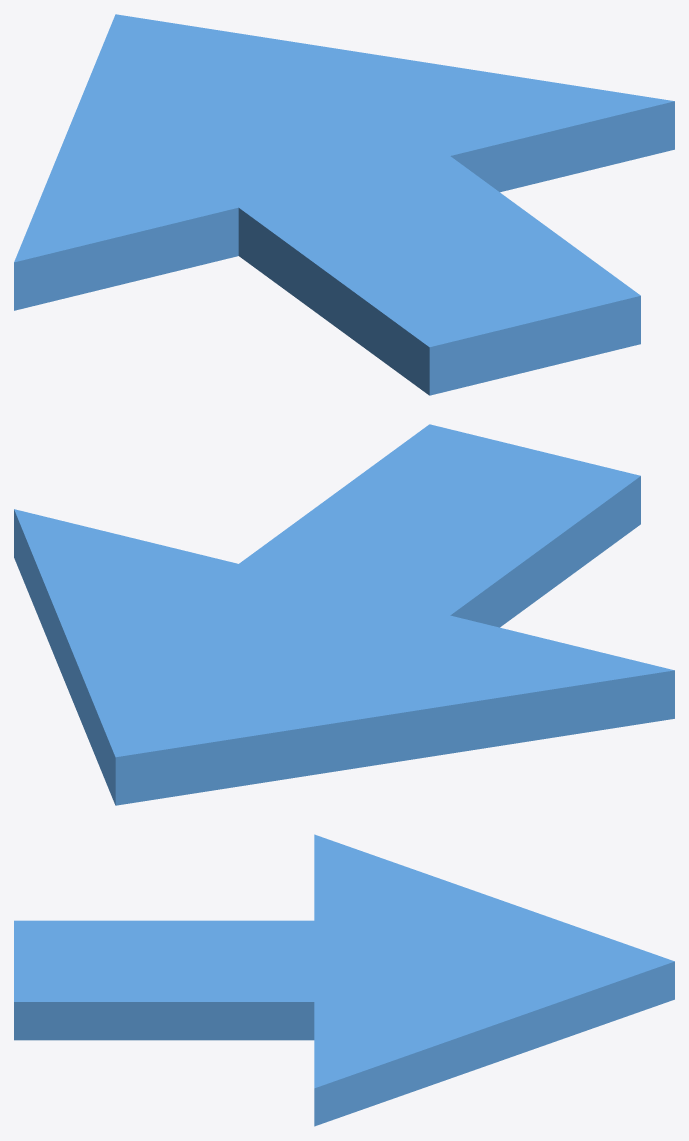
The model's file is arrow.glb.
3 views of the same model, one above another, from view 1: azimuth 30°, elevation 25°; view 2: azimuth 150°, elevation 25°; view 3: azimuth 270°, elevation 25° (orthographic). The views are drawn at different scales.
Bounding box in the file's own units: 1 × 0.07 × 1.1.
